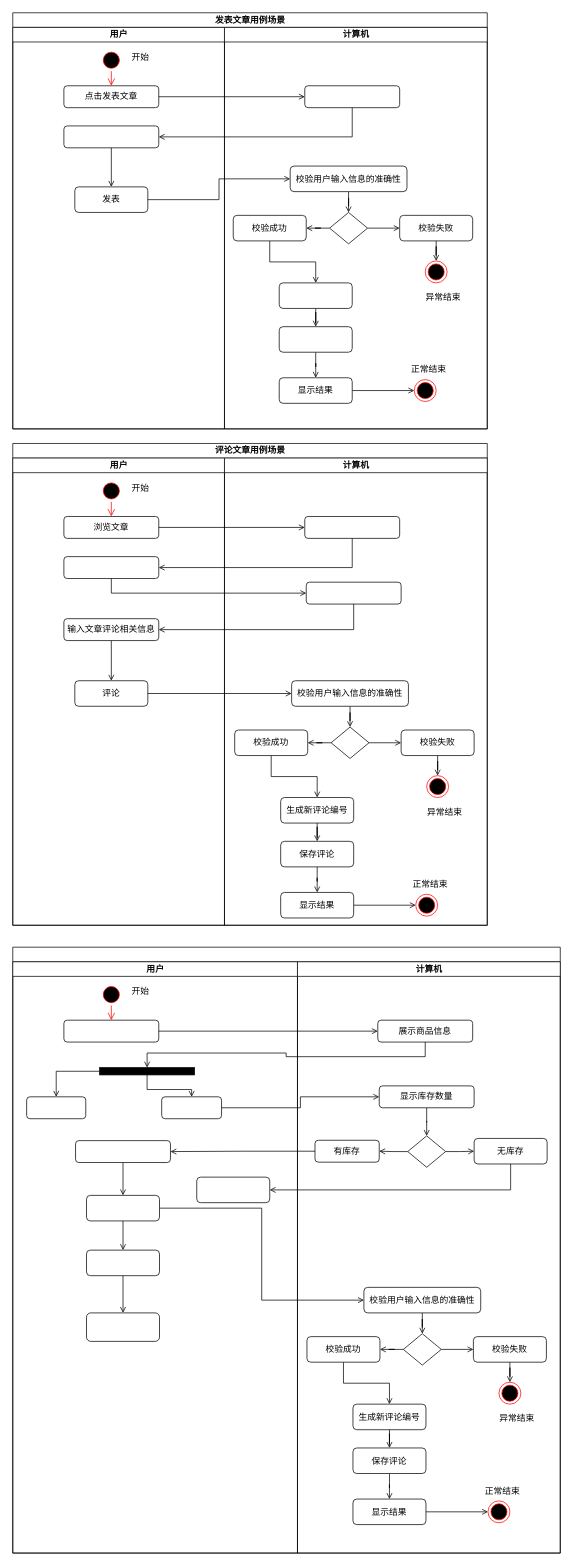
Some shapes in this 573 by 1566 pixel diagram are drawn without their labels. The shapes that lost their labels are listed below. From the top down, each one's box as (x1, y1, x2, y2) in pixels, then its label:
(304, 85, 400, 108): 展示发表文章界面
(63, 125, 159, 148): 输入文章相关信息
(278, 282, 352, 308): 生成新文章编号
(278, 326, 352, 352): 保存文章
(304, 516, 400, 538): 展示文章界面
(63, 556, 159, 579): 点击评论
(306, 581, 401, 604): 展示文章评论界面
(63, 1019, 159, 1042): 浏览商品
(26, 1096, 86, 1119): 收藏
(161, 1096, 222, 1119): 查看库存
(75, 1140, 170, 1163): 将商品加入购物车
(86, 1195, 160, 1221): 下单
(196, 1176, 270, 1203): 订阅到货通知
(86, 1249, 160, 1276): 填写收货信息
(12, 946, 560, 1553): 购买商品系统用例场景
(86, 1312, 160, 1341): 支付
